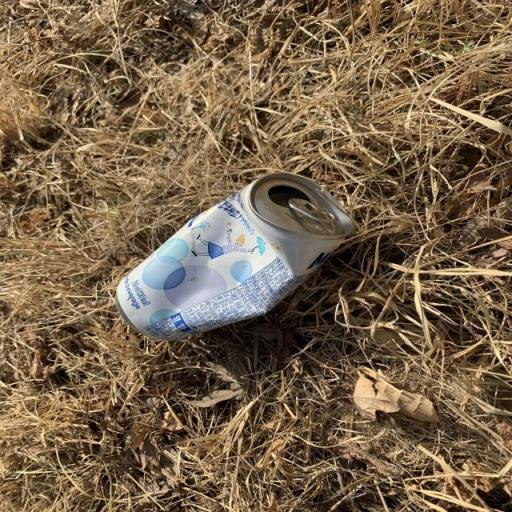metal: (82, 162, 363, 369)
